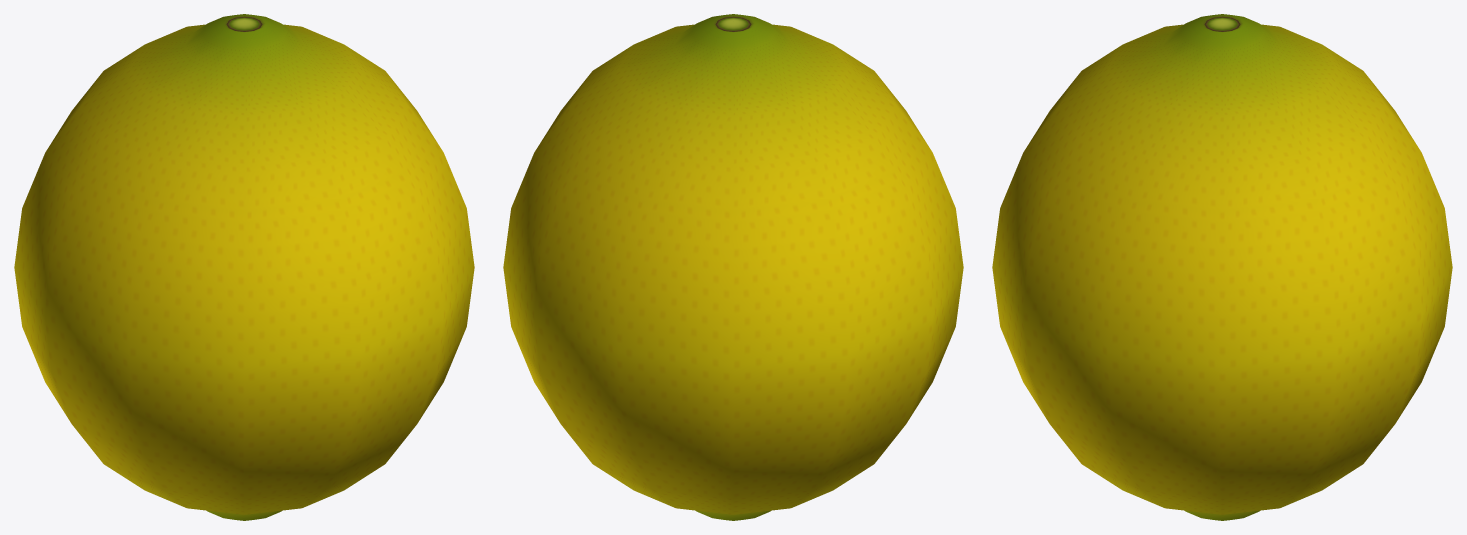
The model's file is Lemon.fbx.
3 views of the same model, side by side, from view 1: azimuth 30°, elevation 25°; view 2: azimuth 150°, elevation 25°; view 3: azimuth 270°, elevation 25° (orthographic).
Parts seen in each view (by area): view 1: Lemon_Whole; view 2: Lemon_Whole; view 3: Lemon_Whole.
Boxes of the visible parts, x1,y1,x2,y2 form: Lemon_Whole: (14, 14, 474, 520); Lemon_Whole: (503, 14, 963, 520); Lemon_Whole: (992, 14, 1452, 520).
Size of the model in its own units: 1.57 by 1.86 by 1.57.
